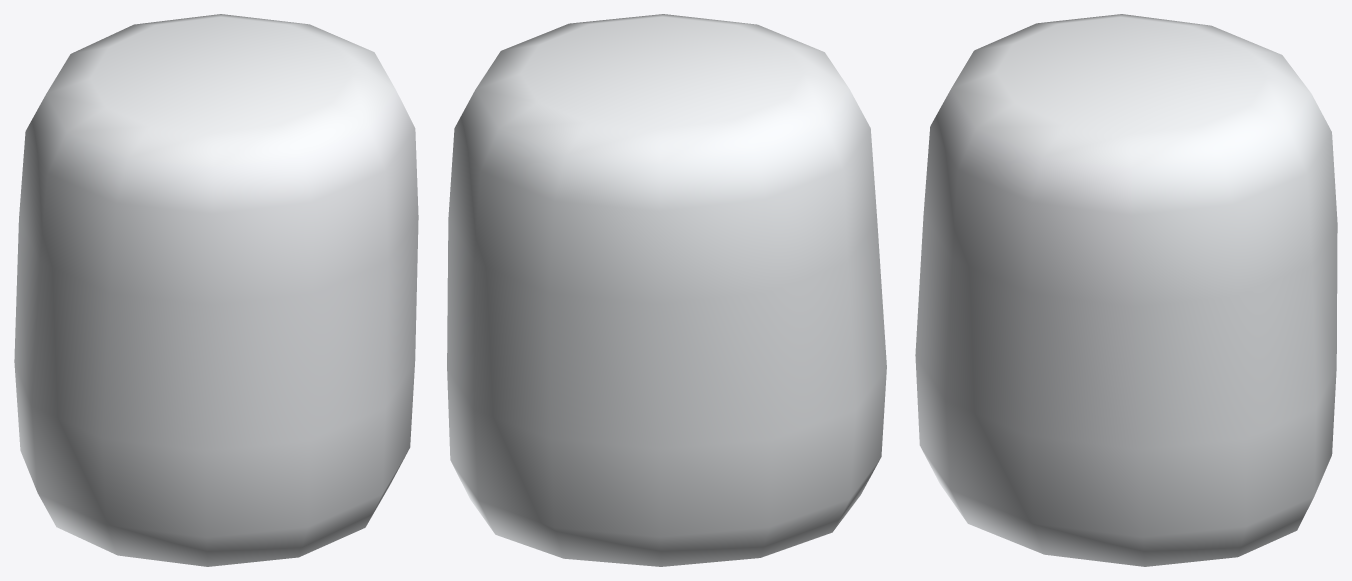
The model's file is marshmallow_001.glb.
The picture shows the model from 3 angles, left to right: view 1: azimuth 30°, elevation 25°; view 2: azimuth 150°, elevation 25°; view 3: azimuth 270°, elevation 25°; orthographic projection. The views are drawn at different scales.
Parts seen in each view (by area): view 1: marshmallow_001; view 2: marshmallow_001; view 3: marshmallow_001.
Boxes of the visible parts, x1=… form: marshmallow_001: x1=14, y1=14, x2=418, y2=566; marshmallow_001: x1=447, y1=14, x2=886, y2=566; marshmallow_001: x1=915, y1=14, x2=1337, y2=566.
Size of the model in its own units: 1.1 by 1.22 by 1.08.
1 material, 1 textured.
